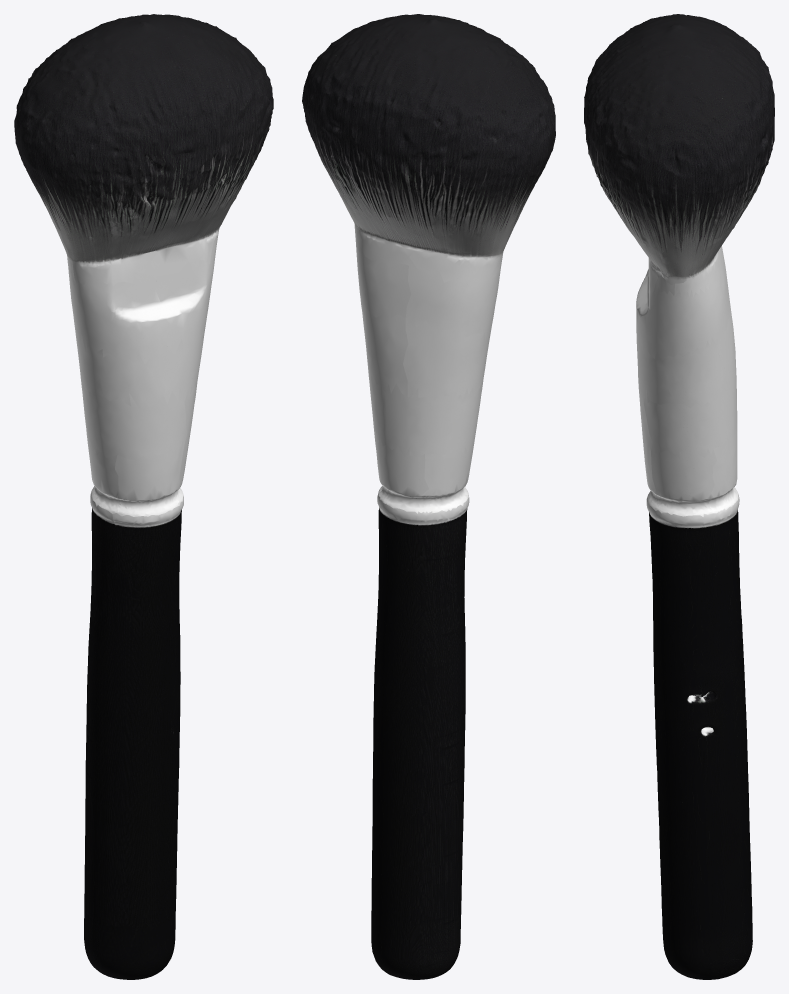
File: Meshy_AI_Makeup_Brush_0907165611_texture.glb
The picture shows the model from 3 angles, left to right: view 1: azimuth 30°, elevation 25°; view 2: azimuth 150°, elevation 25°; view 3: azimuth 270°, elevation 25°; orthographic projection. The views are drawn at different scales.
Visible parts, largest first — view 1: mesh_node; view 2: mesh_node; view 3: mesh_node.
Part boxes in pixels (left/top/right/bottom): mesh_node: left=14, top=14, right=273, bottom=979; mesh_node: left=302, top=14, right=555, bottom=979; mesh_node: left=584, top=14, right=774, bottom=979.
Bounding box in the file's own units: 0.4958 × 1.9 × 0.348.
Materials: 1 (1 with a texture image).
